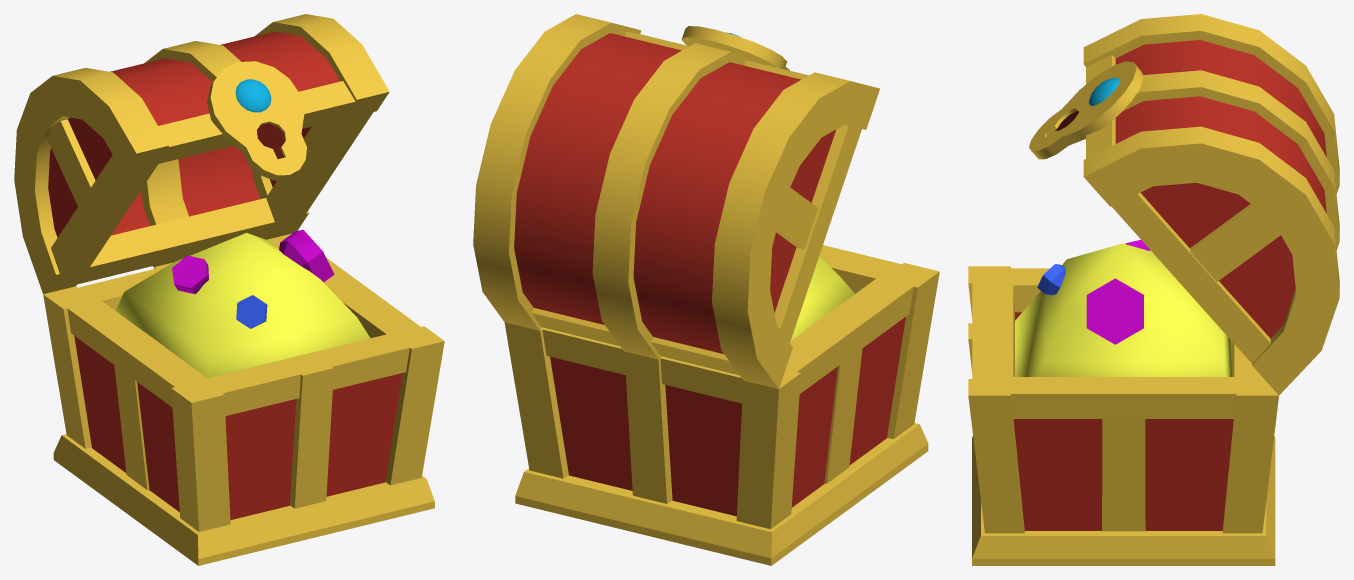
The model's file is baoxiang@dakai.FBX.
3 renders of one model, left to right at view 1: azimuth 30°, elevation 25°; view 2: azimuth 150°, elevation 25°; view 3: azimuth 270°, elevation 25°, orthographic. The views are drawn at different scales.
Visible parts, largest first — view 1: 宝箱_打开; view 2: 宝箱_打开; view 3: 宝箱_打开.
Boxes of the visible parts, x1,y1,x2,y2 form: 宝箱_打开: (14, 14, 444, 565); 宝箱_打开: (473, 14, 939, 565); 宝箱_打开: (968, 14, 1339, 565).
Bounding box in the file's own units: 91.92 × 145 × 111.
